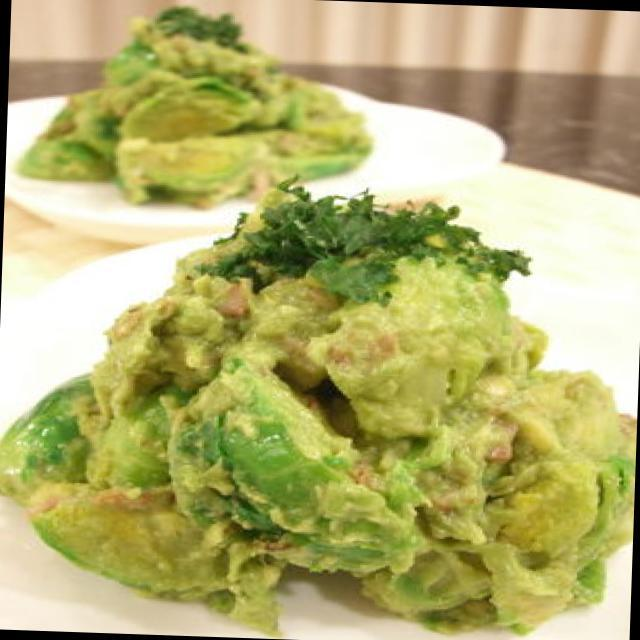Green Salad: (450, 206, 628, 361)
